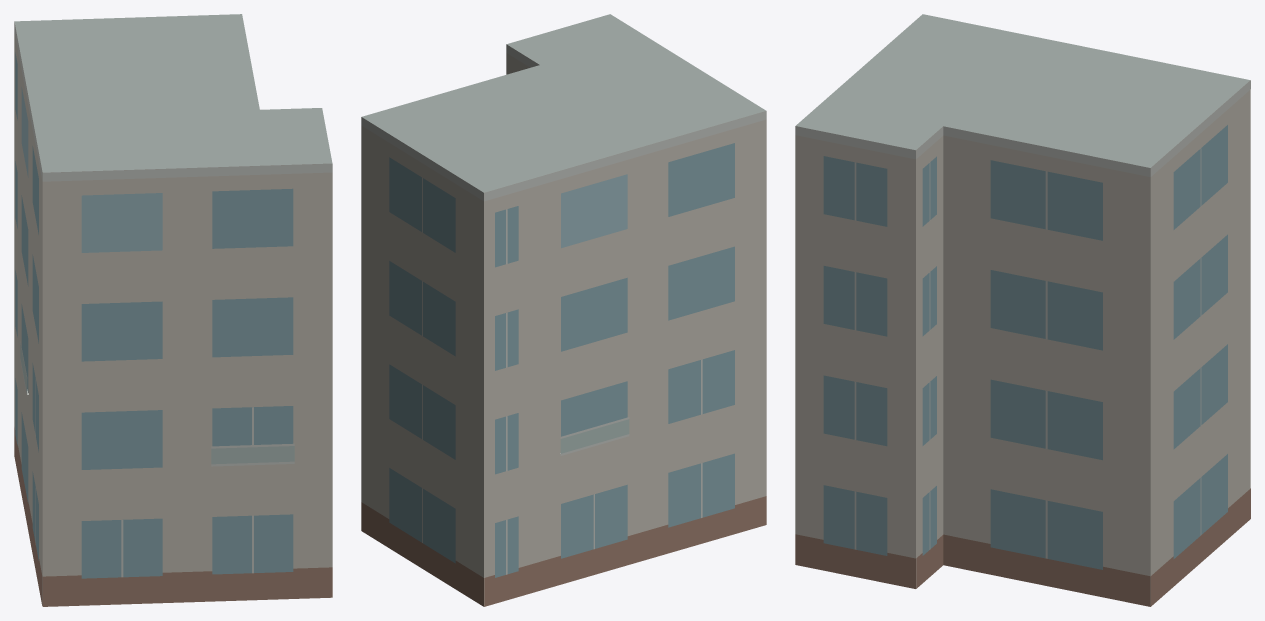
File: survey-upis-32513325.glb
3 renders of one model, left to right at view 1: azimuth 30°, elevation 25°; view 2: azimuth 150°, elevation 25°; view 3: azimuth 270°, elevation 25°, orthographic. The views are drawn at different scales.
Visible parts, largest first — view 1: survey-upis-32513325.tmp; view 2: survey-upis-32513325.tmp; view 3: survey-upis-32513325.tmp.
Boxes of the visible parts, <box> form: survey-upis-32513325.tmp: <box>14,14,332,606</box>; survey-upis-32513325.tmp: <box>361,14,766,606</box>; survey-upis-32513325.tmp: <box>795,14,1250,606</box>.
Bounding box in the file's own units: 8.81 × 11.7 × 11.01.
